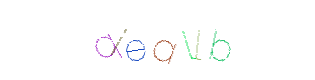A: (113, 0, 193, 80)
B: (176, 0, 256, 80)
E: (105, 0, 185, 80)
I: (95, 0, 175, 80)
L: (117, 0, 197, 80), (157, 0, 237, 80)
Q: (75, 0, 155, 80)
